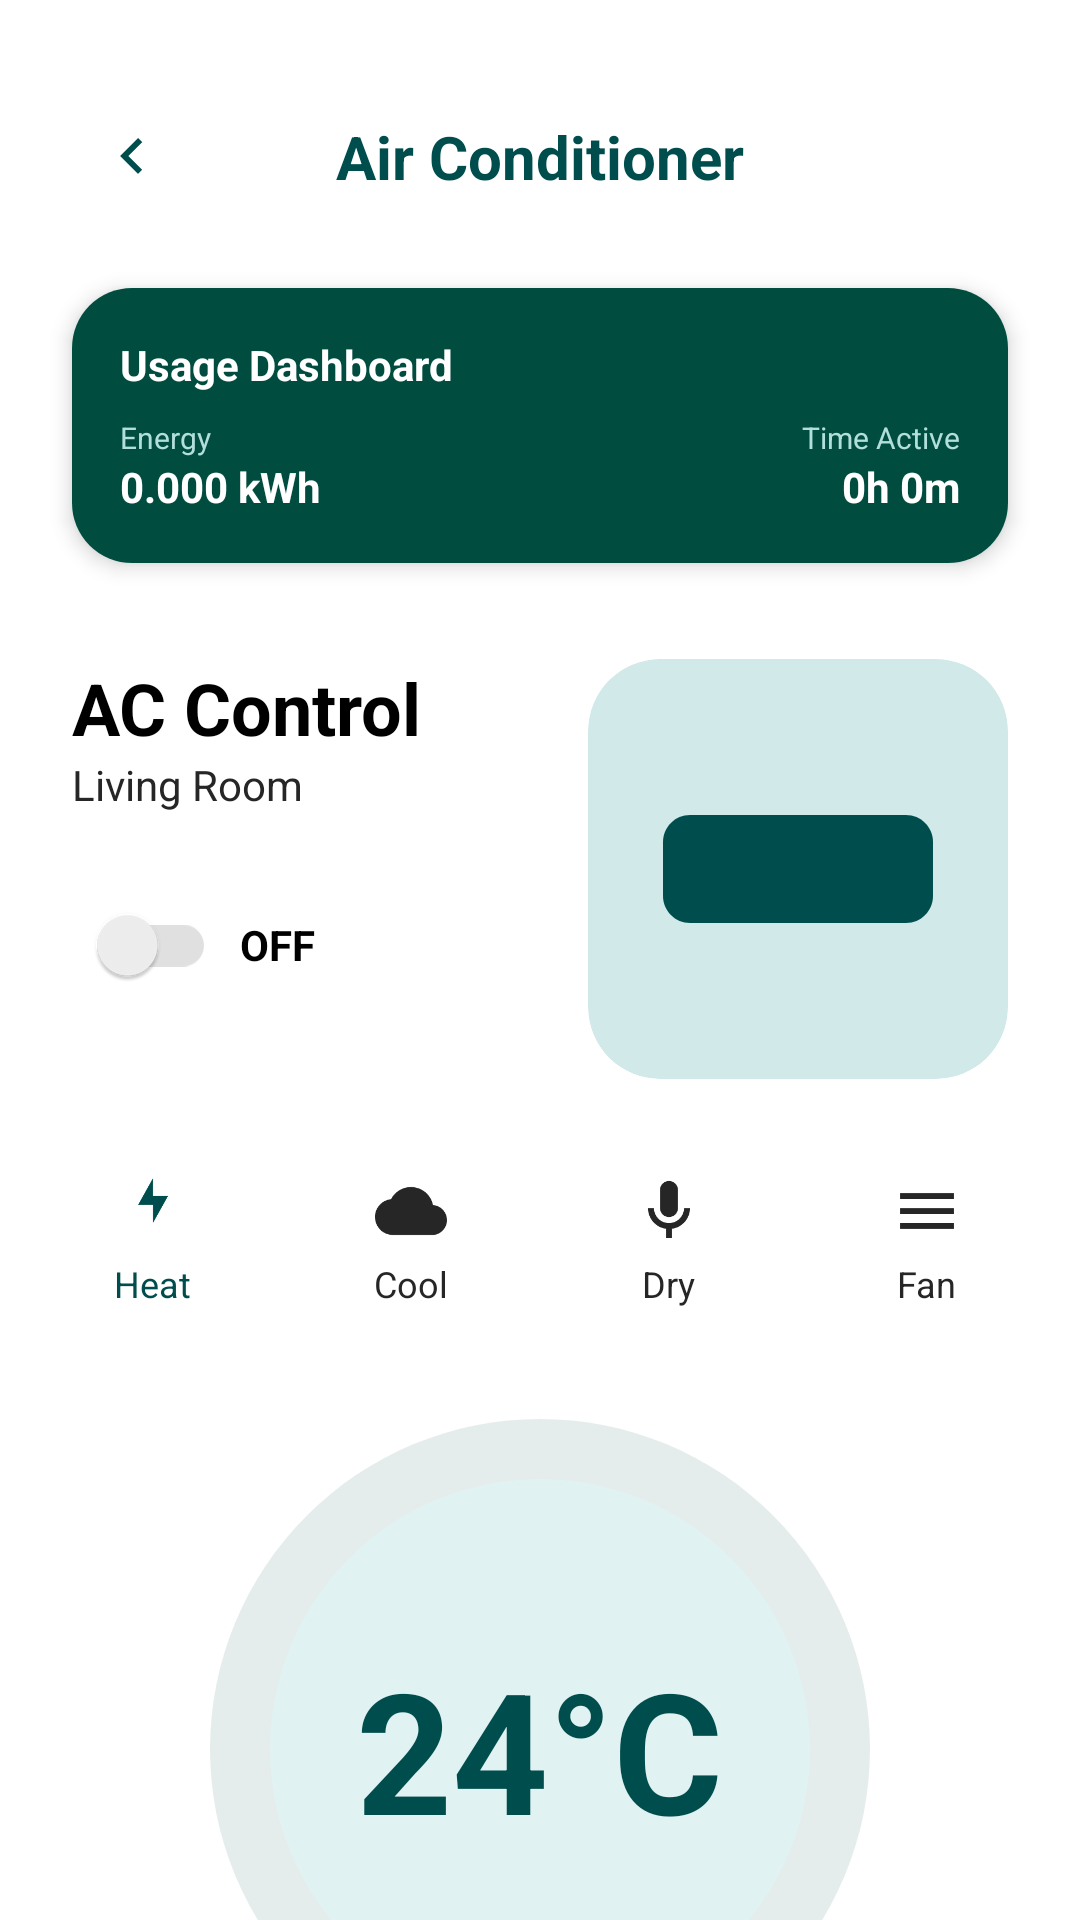

Icons on this 1080 × 1920 Android screen, each with its box as (x1, y1, x2, y2):
arrow back: (120, 138, 142, 174)
cloud: (375, 1187, 447, 1235)
lightning: (138, 1178, 168, 1223)
menu: (900, 1193, 954, 1229)
mic: (648, 1181, 690, 1238)
